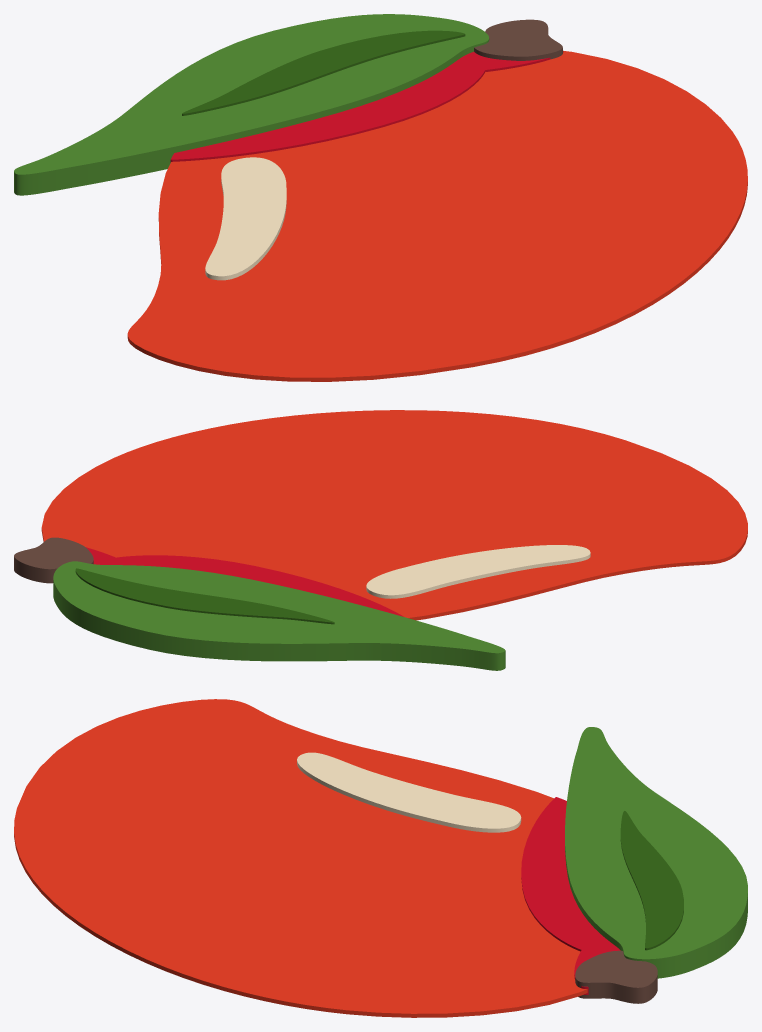
File: emoji_u1f96d.glb
3 renders of one model, top to bottom at view 1: azimuth 30°, elevation 25°; view 2: azimuth 150°, elevation 25°; view 3: azimuth 270°, elevation 25°, orthographic. The views are drawn at different scales.
Parts seen in each view (by area): view 1: emoji_u1f96d; view 2: emoji_u1f96d; view 3: emoji_u1f96d.
Boxes of the visible parts, x1=… form: emoji_u1f96d: x1=14, y1=14, x2=747, y2=381; emoji_u1f96d: x1=14, y1=410, x2=747, y2=670; emoji_u1f96d: x1=14, y1=699, x2=747, y2=1017.
Bounding box in the file's own units: 0.0338 × 0.0012 × 0.0333.
